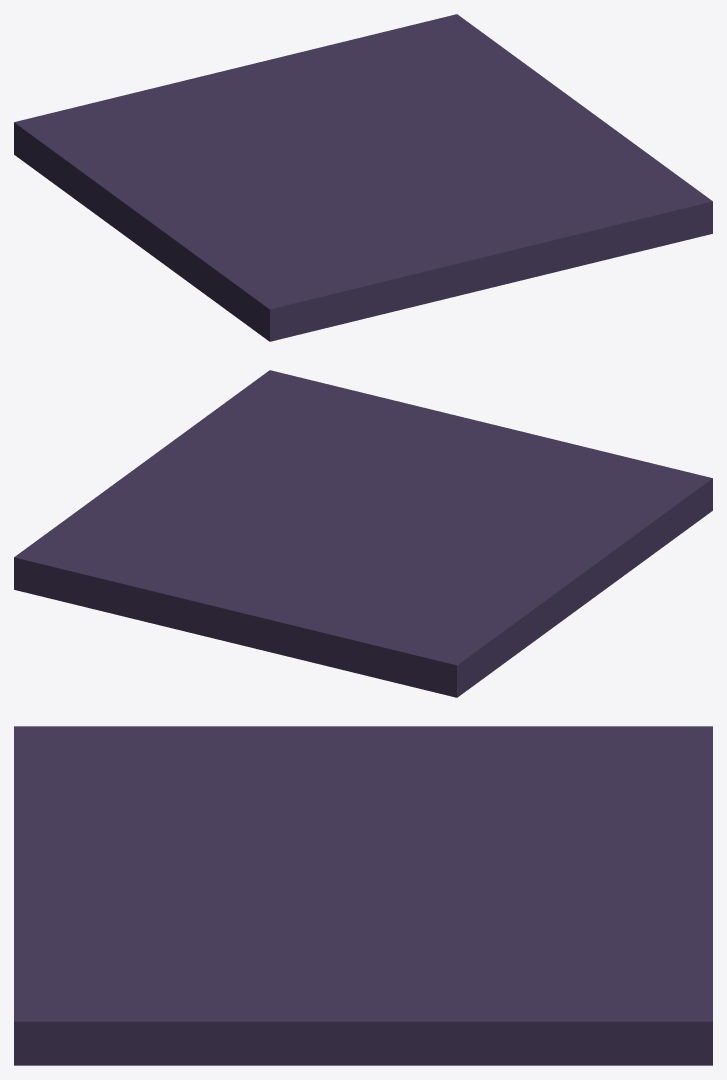
The model's file is CH_Airfield_LOD0.glb.
The picture shows the model from 3 angles, top to bottom: view 1: azimuth 30°, elevation 25°; view 2: azimuth 150°, elevation 25°; view 3: azimuth 270°, elevation 25°; orthographic projection. The views are drawn at different scales.
Parts seen in each view (by area): view 1: Cube.001; view 2: Cube.001; view 3: Cube.001.
Part boxes in pixels (x1,y1,x2,y2): Cube.001: [14, 14, 712, 341]; Cube.001: [14, 370, 712, 697]; Cube.001: [14, 726, 712, 1065].
Size of the model in its own units: 13.6 by 1.42 by 13.6.
